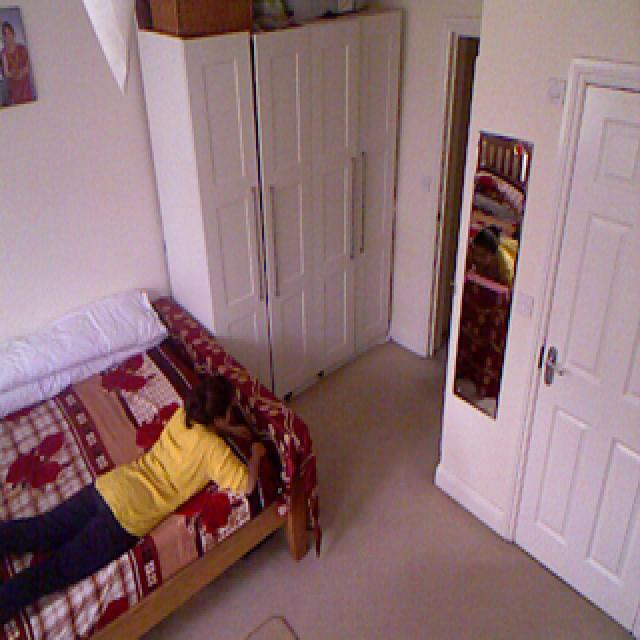lying: (0, 374, 274, 624)
